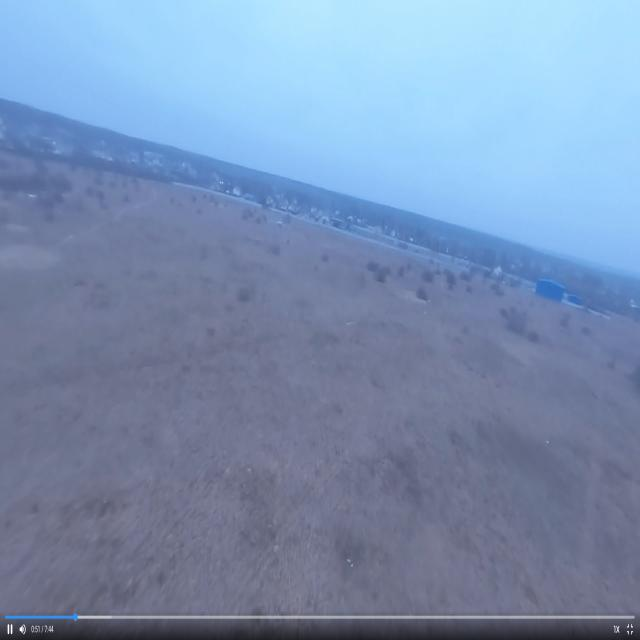planedrone: (266, 217, 298, 235)
